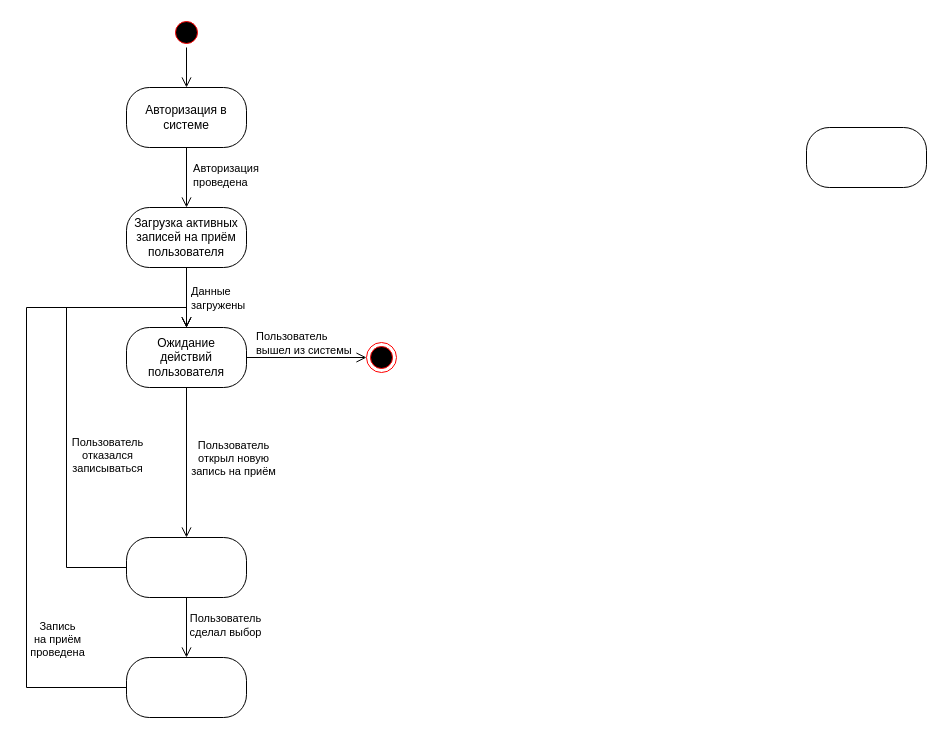
The diagram is 944 pixels wide and 735 high, and some of its shapes have lost their labels. The shapes that lost their labels are listed below. From the top down, each one's centre as x and y in pixels, then its label:
At point (186, 567): "Выбор врача, даты и времени для записи".
At point (186, 687): "Обновление информации в базе данных".
